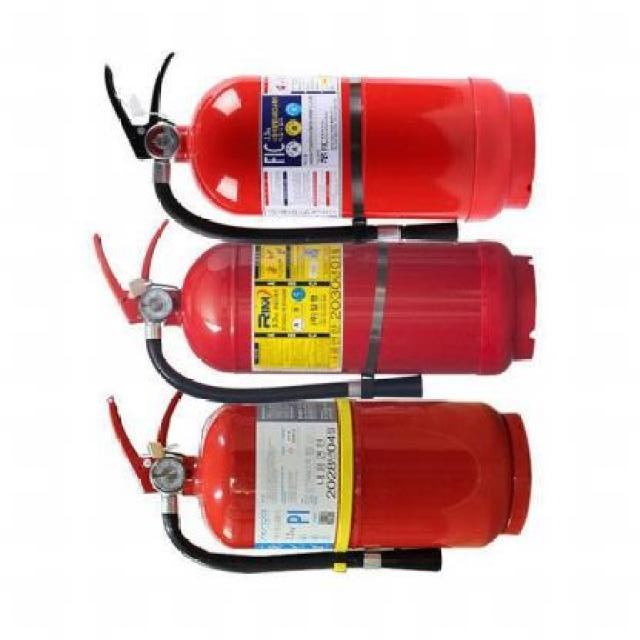fire extinguisher: (102, 51, 536, 247), (93, 219, 538, 405), (106, 390, 532, 575)
